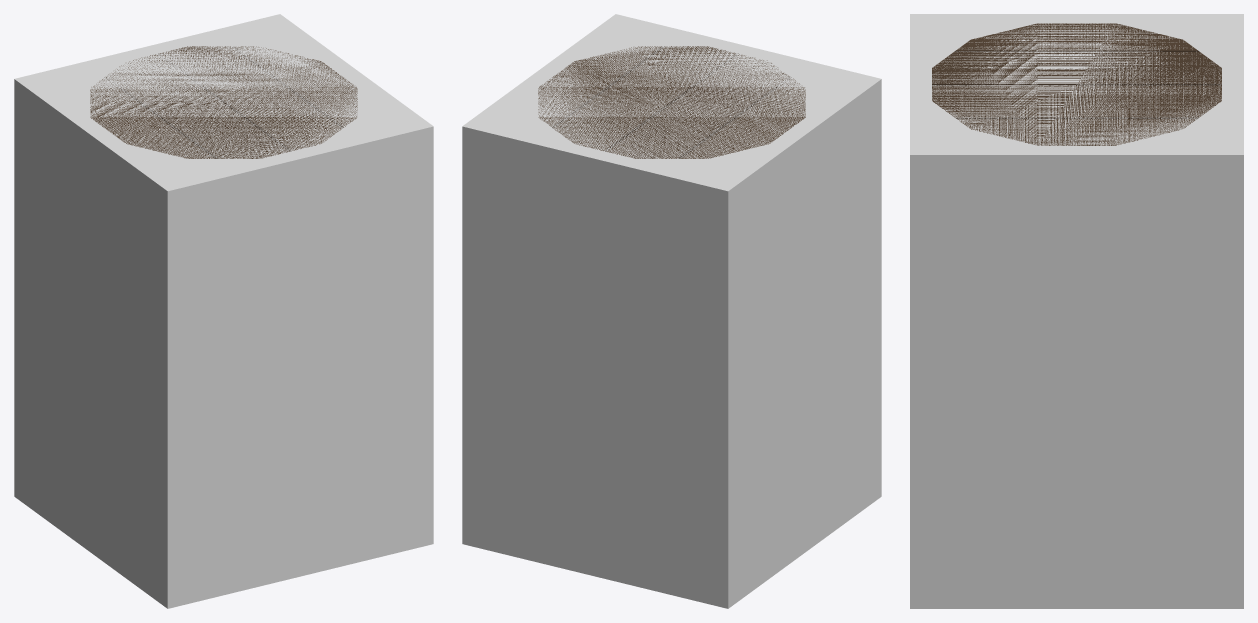
File: barrel.glb
The picture shows the model from 3 angles, left to right: view 1: azimuth 30°, elevation 25°; view 2: azimuth 150°, elevation 25°; view 3: azimuth 270°, elevation 25°; orthographic projection. The views are drawn at different scales.
Visible parts, largest first — view 1: COL_HULL_barrel, barrel; view 2: COL_HULL_barrel, barrel; view 3: COL_HULL_barrel, barrel.
Boxes of the visible parts, bbox=[...] form: COL_HULL_barrel: bbox=[14, 14, 433, 608]; barrel: bbox=[90, 46, 357, 158]; COL_HULL_barrel: bbox=[462, 14, 881, 608]; barrel: bbox=[538, 46, 805, 158]; COL_HULL_barrel: bbox=[910, 14, 1243, 608]; barrel: bbox=[932, 23, 1221, 145].
Size of the model in its own units: 0.6 by 0.9 by 0.6.
Materials: 2 (2 with a texture image).
